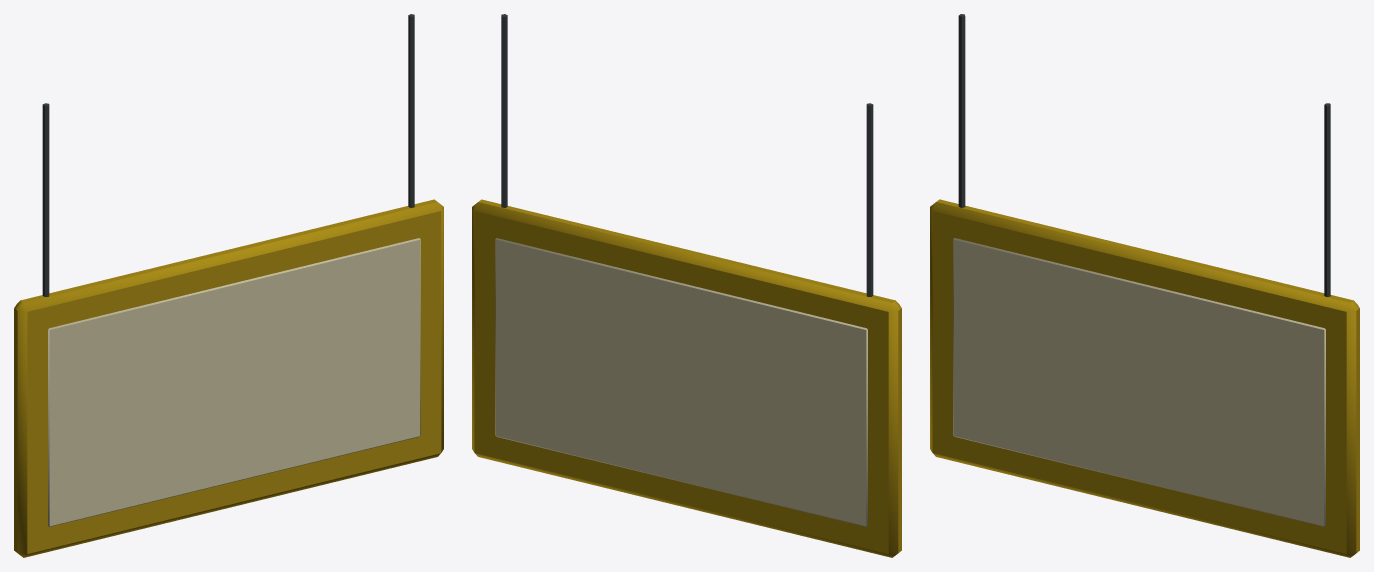
File: mkt-aisle-sign.glb
3 renders of one model, left to right at view 1: azimuth 30°, elevation 25°; view 2: azimuth 150°, elevation 25°; view 3: azimuth 330°, elevation 25°, orthographic.
Parts seen in each view (by area): view 1: sign__lacquer, rods__steel; view 2: sign__lacquer, rods__steel; view 3: sign__lacquer, rods__steel.
Part boxes in pixels (left/top/right/bottom): sign__lacquer: left=14, top=199, right=443, bottom=557; rods__steel: left=42, top=14, right=414, bottom=296; sign__lacquer: left=472, top=199, right=901, bottom=557; rods__steel: left=501, top=14, right=873, bottom=296; sign__lacquer: left=930, top=199, right=1359, bottom=557; rods__steel: left=958, top=14, right=1330, bottom=296.
Bounding box in the file's own units: 0.7 × 0.7 × 0.034.
